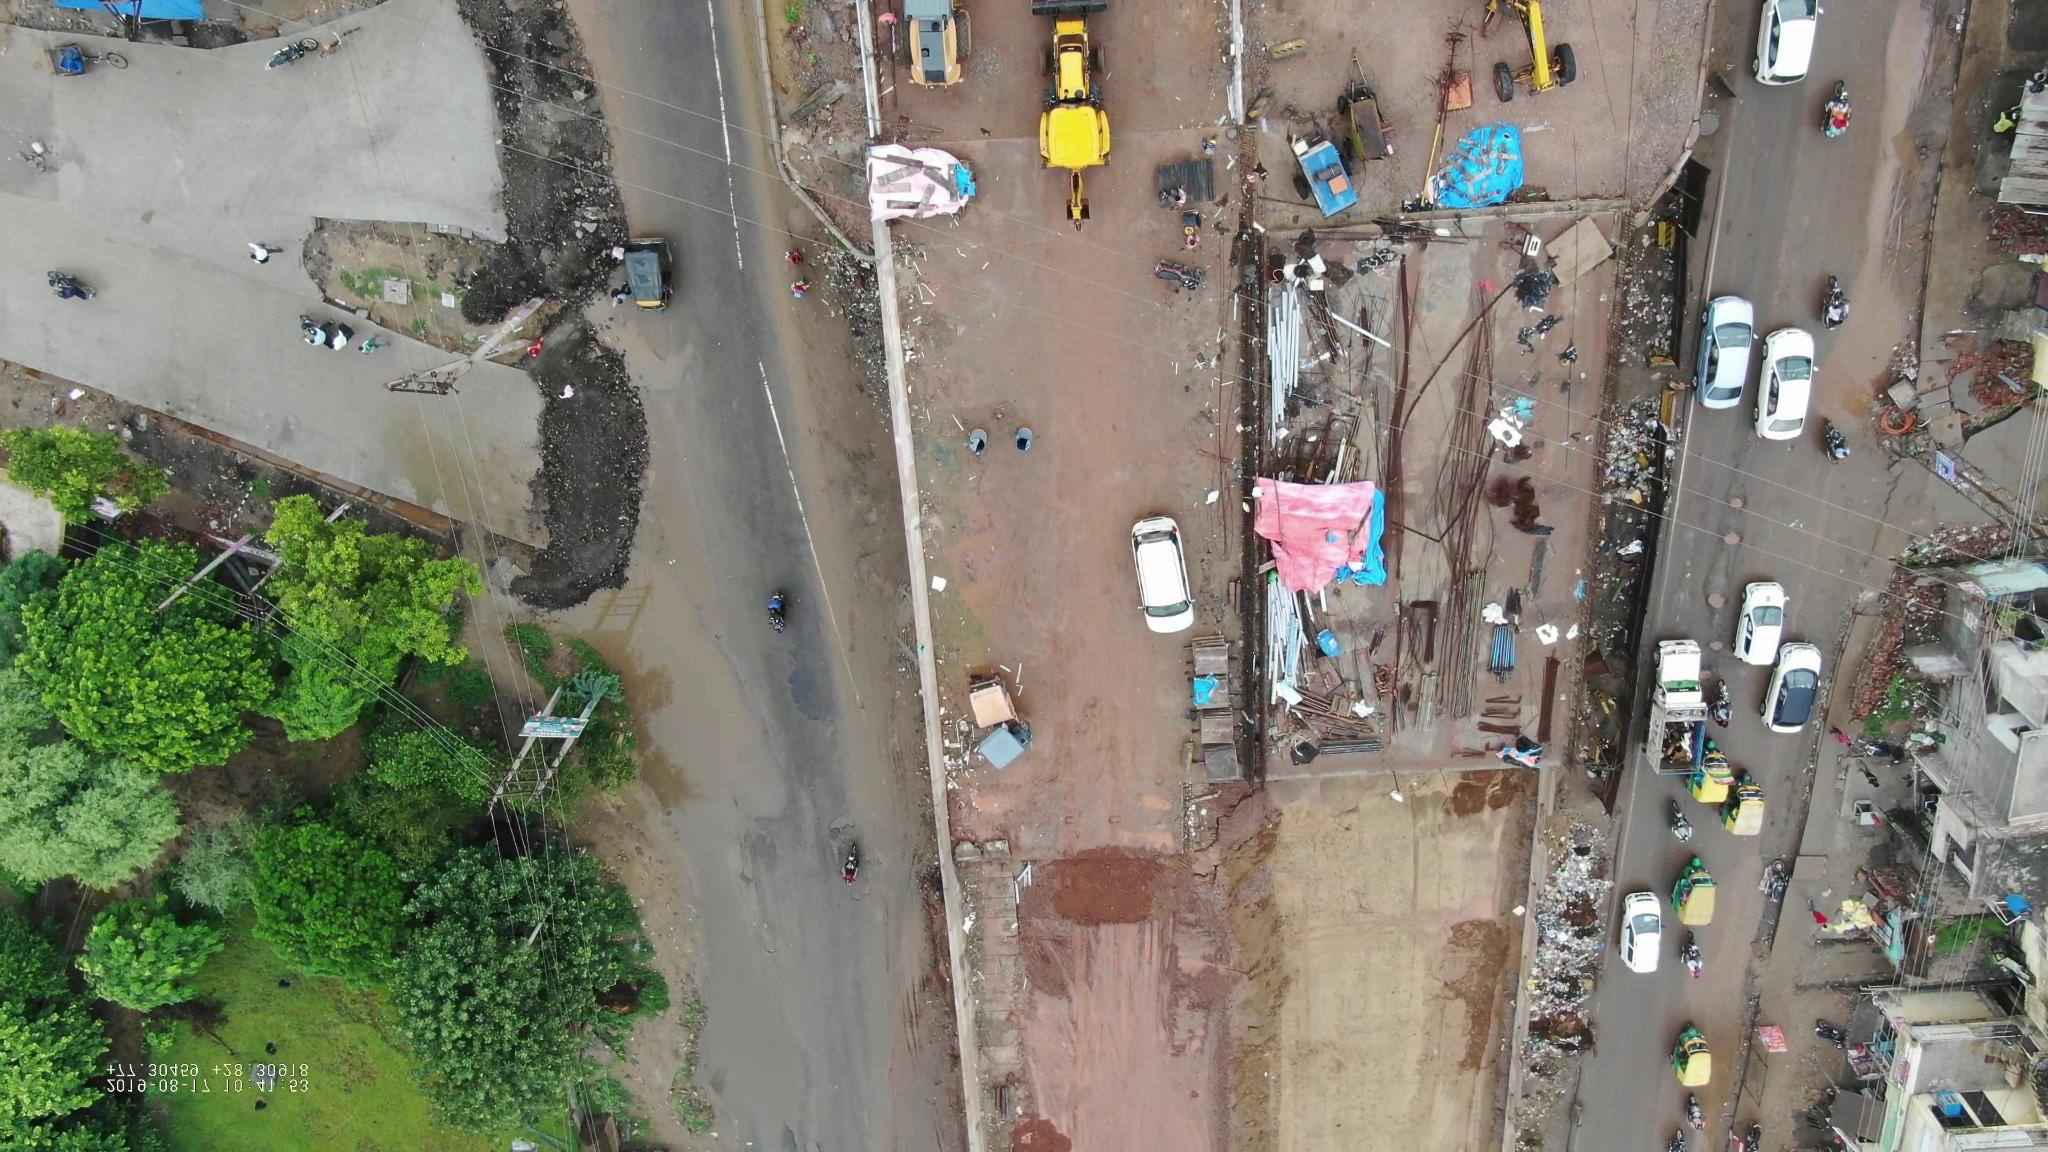Potholes: (1703, 489, 1751, 665)
Waterlogging: (577, 609, 779, 843)
